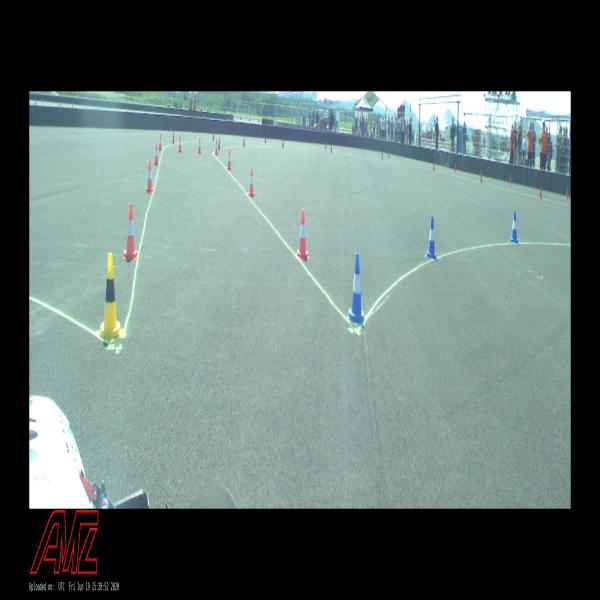blue_cone: (347, 253, 365, 324), (426, 216, 436, 259), (510, 211, 518, 243)
orange_cone: (123, 203, 138, 259), (296, 210, 309, 259), (146, 161, 154, 192), (248, 168, 255, 197), (154, 143, 159, 165), (227, 150, 232, 170), (158, 134, 162, 151), (198, 138, 202, 154), (178, 136, 182, 152), (215, 140, 218, 155)
yellow_cone: (97, 253, 122, 340)
